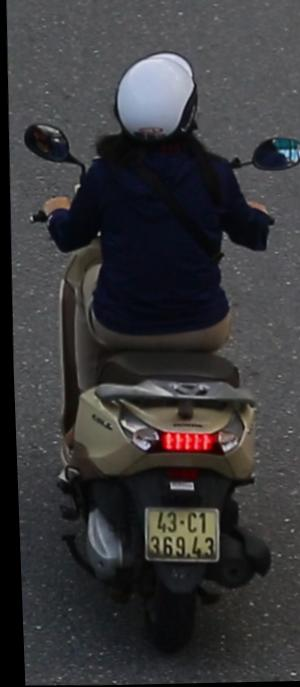LP: (134, 498, 221, 569)
helmet: (108, 45, 209, 167)
